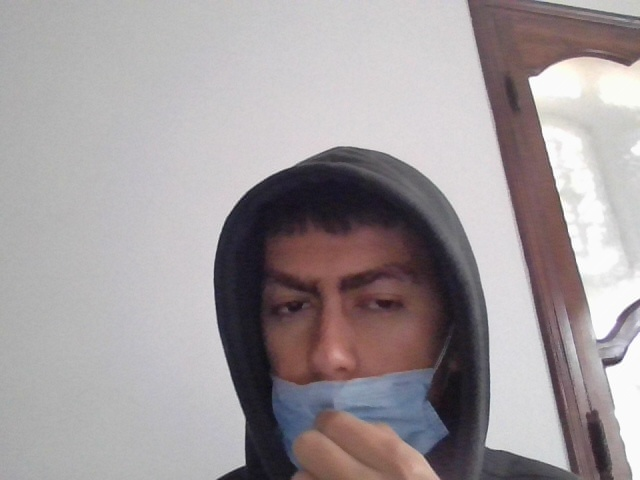mask_weared_incorrect: (253, 198, 458, 477)
